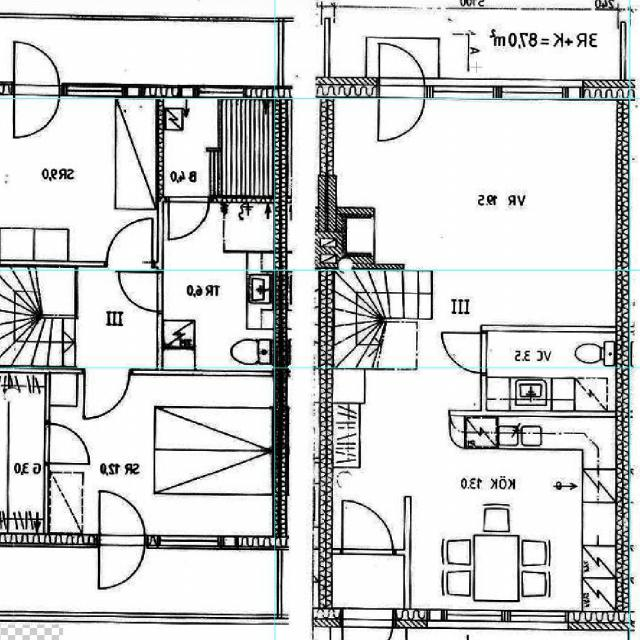door: (342, 499, 394, 555), (380, 77, 424, 142), (380, 33, 424, 97), (100, 532, 145, 592), (100, 488, 145, 548), (15, 85, 60, 142), (15, 41, 60, 98), (108, 216, 152, 268), (85, 368, 130, 418), (114, 270, 164, 311), (440, 333, 488, 372), (168, 195, 208, 241), (44, 424, 90, 462), (343, 611, 393, 640)
